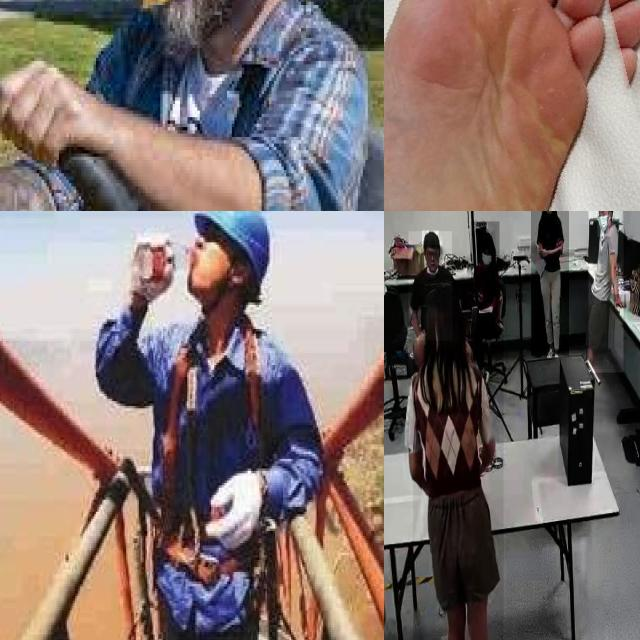Barefoots: (384, 0, 640, 211)
No_Ear-Protection: (192, 211, 271, 320)
face_mask: (597, 211, 610, 237), (480, 250, 496, 271)
face_nomask: (424, 248, 439, 270)
hand_noglove: (614, 294, 626, 308), (554, 235, 564, 250), (538, 245, 548, 258)
head_nohelmet: (423, 284, 462, 318), (478, 230, 496, 248), (422, 230, 440, 246)
person: (413, 283, 504, 640), (588, 211, 623, 373), (530, 211, 569, 356), (408, 231, 452, 341), (471, 221, 500, 339)
